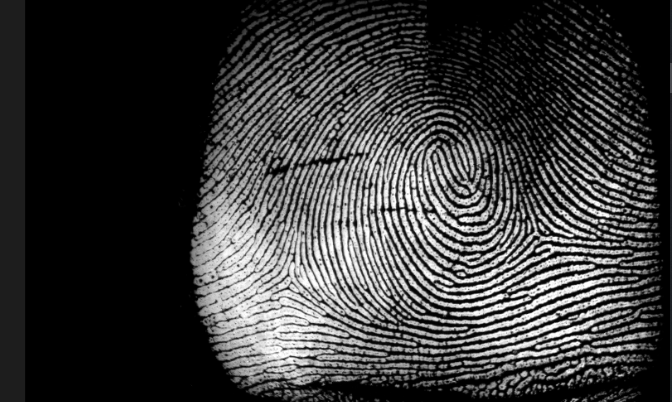nucelo: (421, 140, 458, 194)
verticilo: (271, 261, 309, 297), (520, 220, 550, 252)
